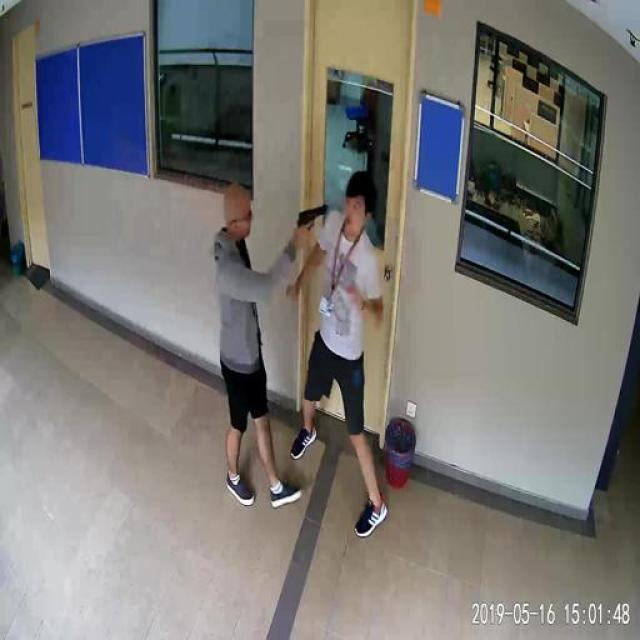Gun: (296, 194, 336, 243)
